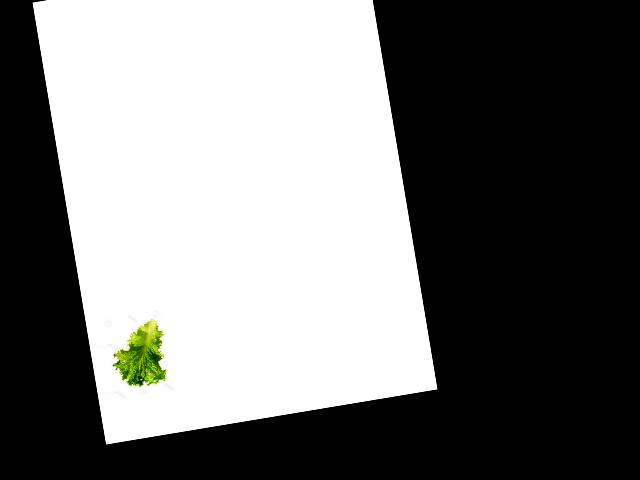lettuce: (107, 317, 168, 390)
